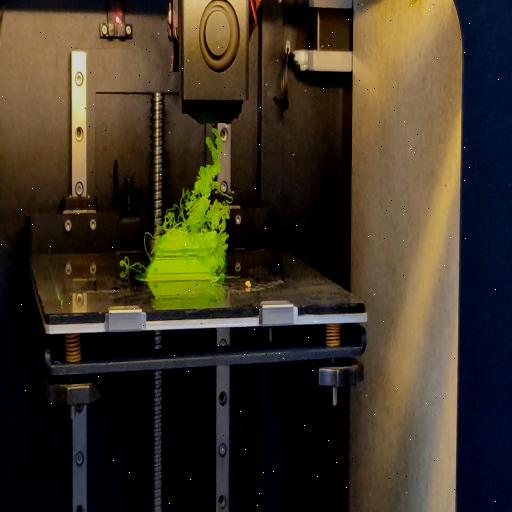spaghetti: (161, 125, 231, 237), (216, 238, 228, 282), (116, 258, 148, 272), (142, 232, 156, 260)
